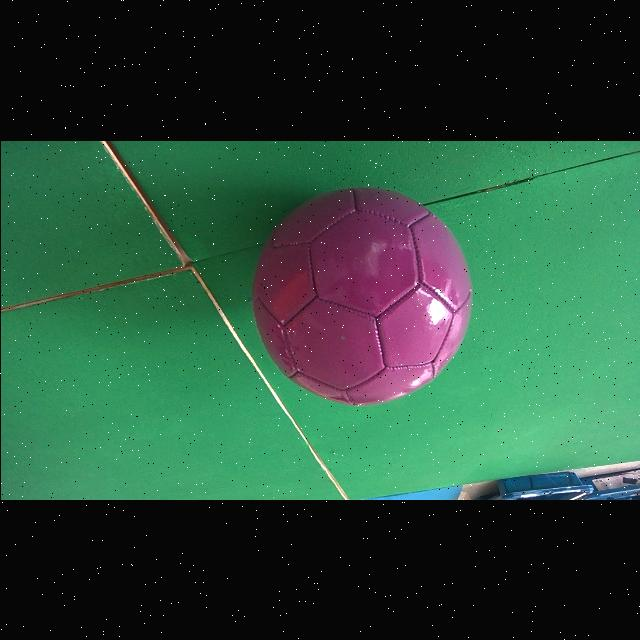P: (251, 187, 470, 405)
